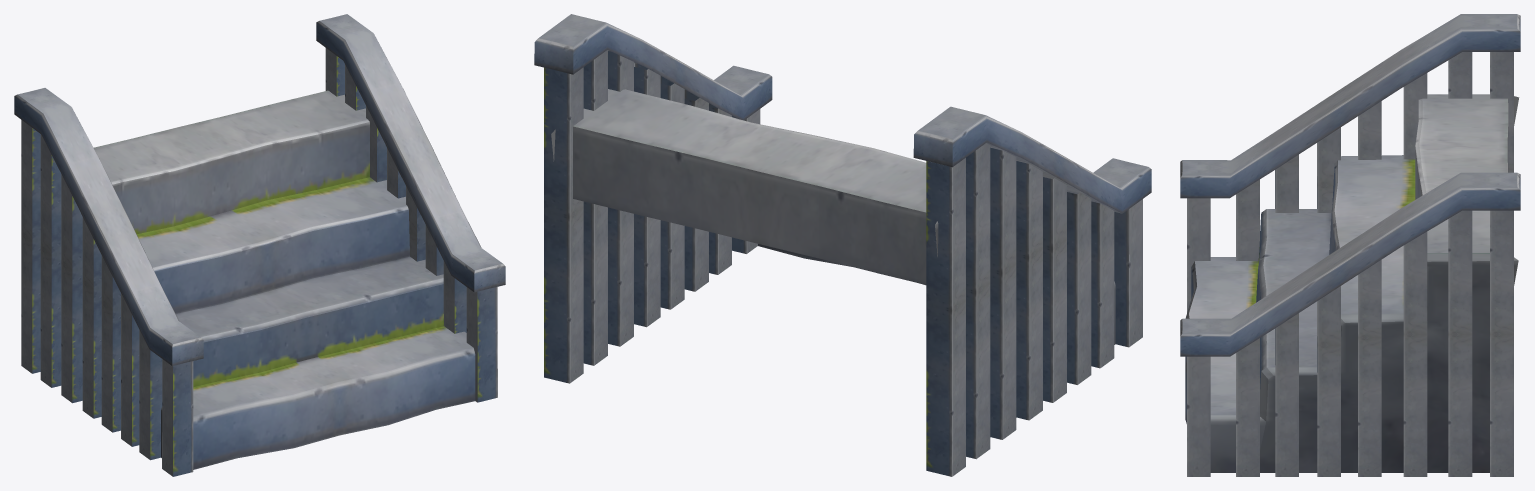
File: CBS_ground_stair.FBX
3 renders of one model, left to right at view 1: azimuth 30°, elevation 25°; view 2: azimuth 150°, elevation 25°; view 3: azimuth 270°, elevation 25°, orthographic. The views are drawn at different scales.
Visible parts, largest first — view 1: CBS_ground_stair; view 2: CBS_ground_stair; view 3: CBS_ground_stair.
Part boxes in pixels (bbox=[...]): CBS_ground_stair: bbox=[14, 14, 505, 476]; CBS_ground_stair: bbox=[534, 14, 1151, 476]; CBS_ground_stair: bbox=[1180, 14, 1520, 476].
Bounding box in the file's own units: 187 × 144 × 153.
